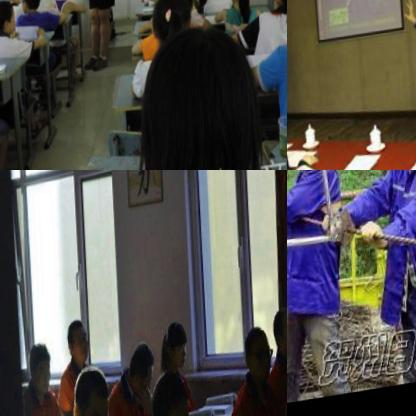head: (137, 11, 272, 170), (147, 0, 190, 55), (70, 365, 110, 416), (239, 326, 271, 389), (149, 372, 194, 416), (124, 343, 155, 406), (159, 318, 190, 380), (24, 339, 52, 397), (64, 318, 89, 371), (269, 309, 287, 373), (0, 0, 17, 41), (268, 0, 287, 22), (18, 0, 41, 18), (226, 0, 253, 13), (3, 0, 24, 7)
